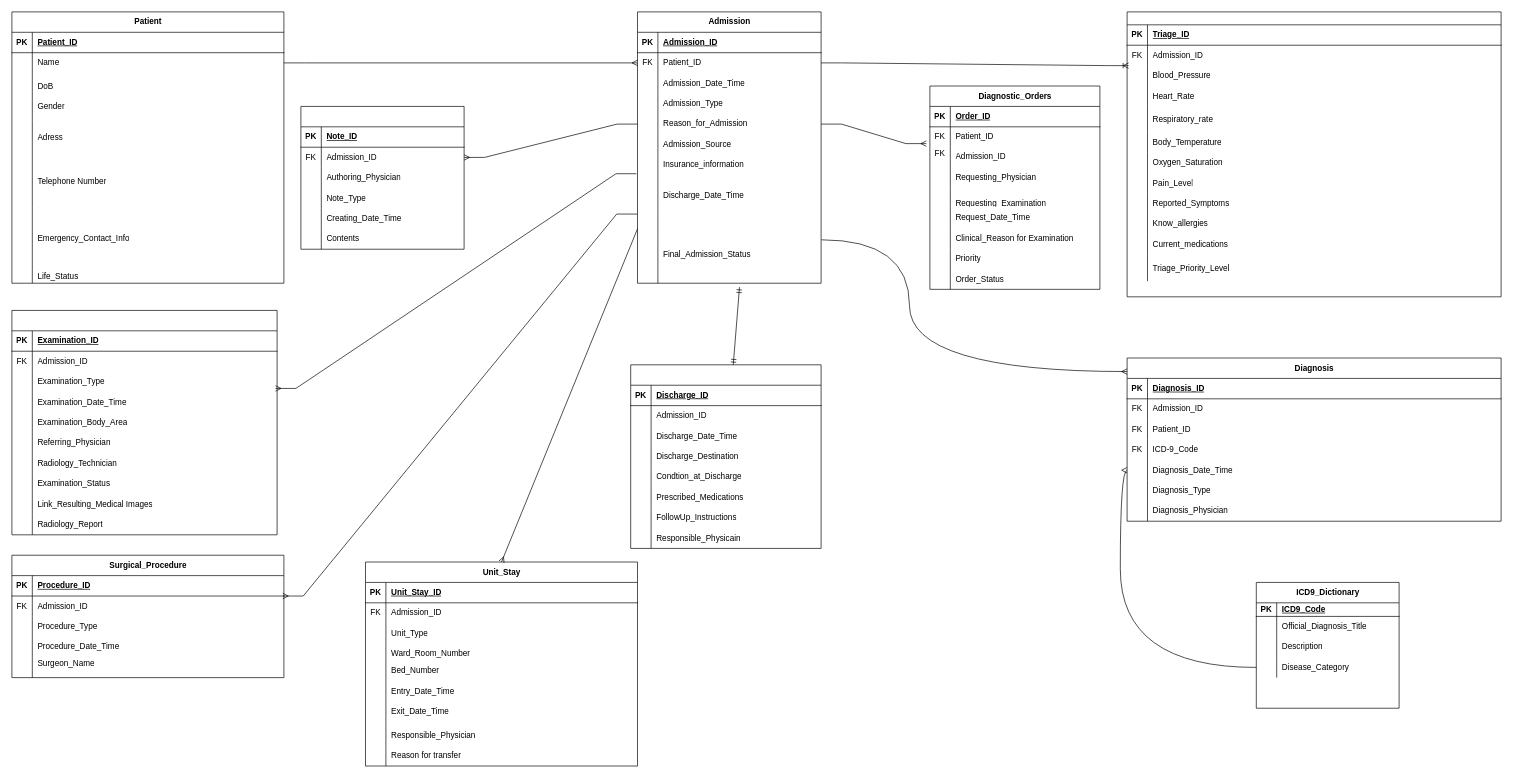
Image size: 1513x778. Some labels were removed from this diagram. Each missing label, with the box of its shape:
Clinical Note: (300, 106, 464, 249)
Dischard_Record: (630, 364, 821, 548)
Radiology_Examination: (11, 310, 277, 535)
Triage_Assessment: (1126, 11, 1501, 297)
